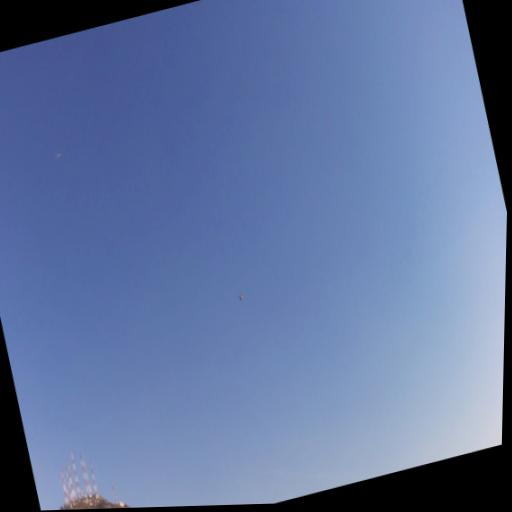drones: (234, 286, 249, 308)
